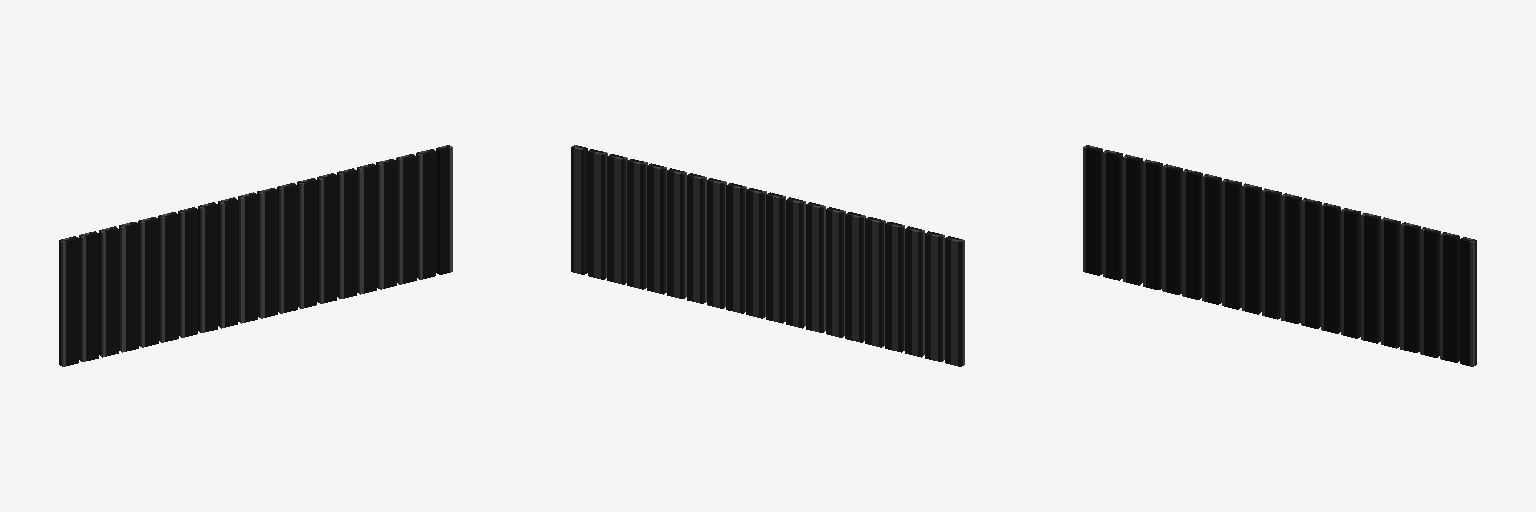
The picture shows the model from 3 angles: view 1: azimuth 30°, elevation 25°; view 2: azimuth 150°, elevation 25°; view 3: azimuth 330°, elevation 25°; orthographic projection.
Visible parts, largest first — view 1: balcony2; view 2: balcony2; view 3: balcony2.
Part boxes in pixels (bbox=[...]): balcony2: bbox=[59, 145, 452, 366]; balcony2: bbox=[571, 145, 964, 366]; balcony2: bbox=[1083, 145, 1476, 366].
Size of the model in its own units: 11.8 by 3.6 by 0.2.
1 materials, 1 textured.